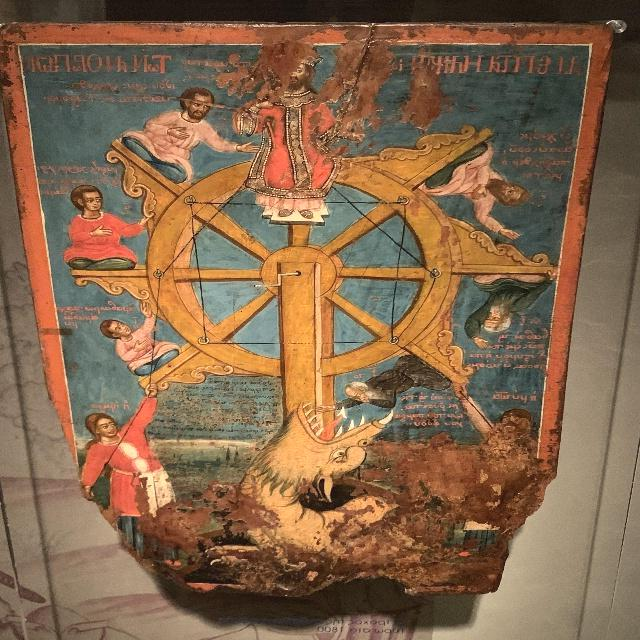dragon: (230, 402, 420, 574)
